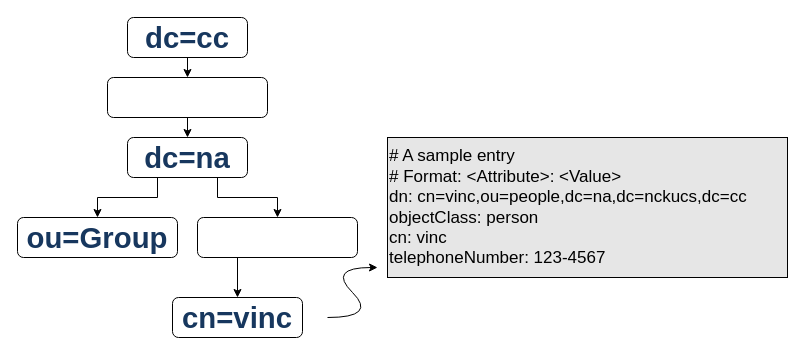
Some shapes in this 805 by 355 pixel diagram are drawn without their labels. Each missing label, with the centre of its shape:
"d c= nckucs" goes at [187,97].
"o u = People" goes at [277,237].
